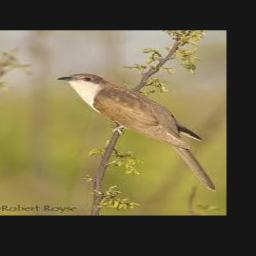Cuckoo: (56, 73, 216, 192)
